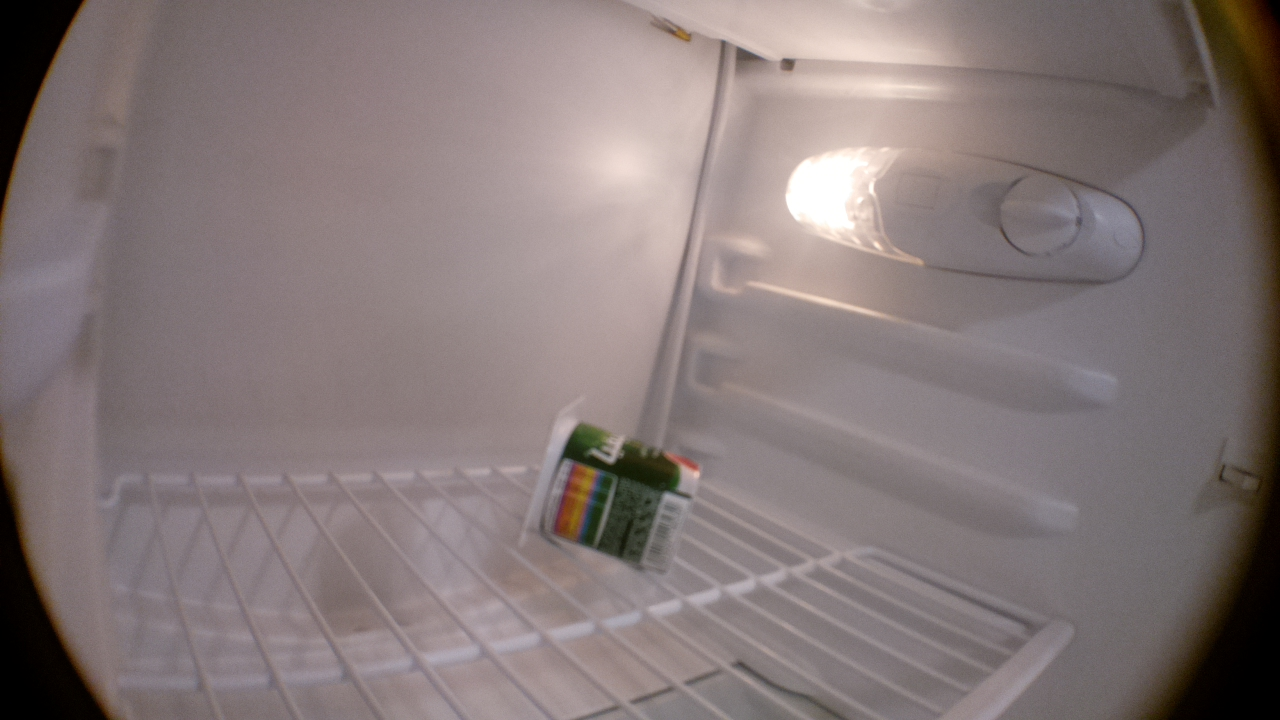yoghurt: (518, 395, 702, 575)
